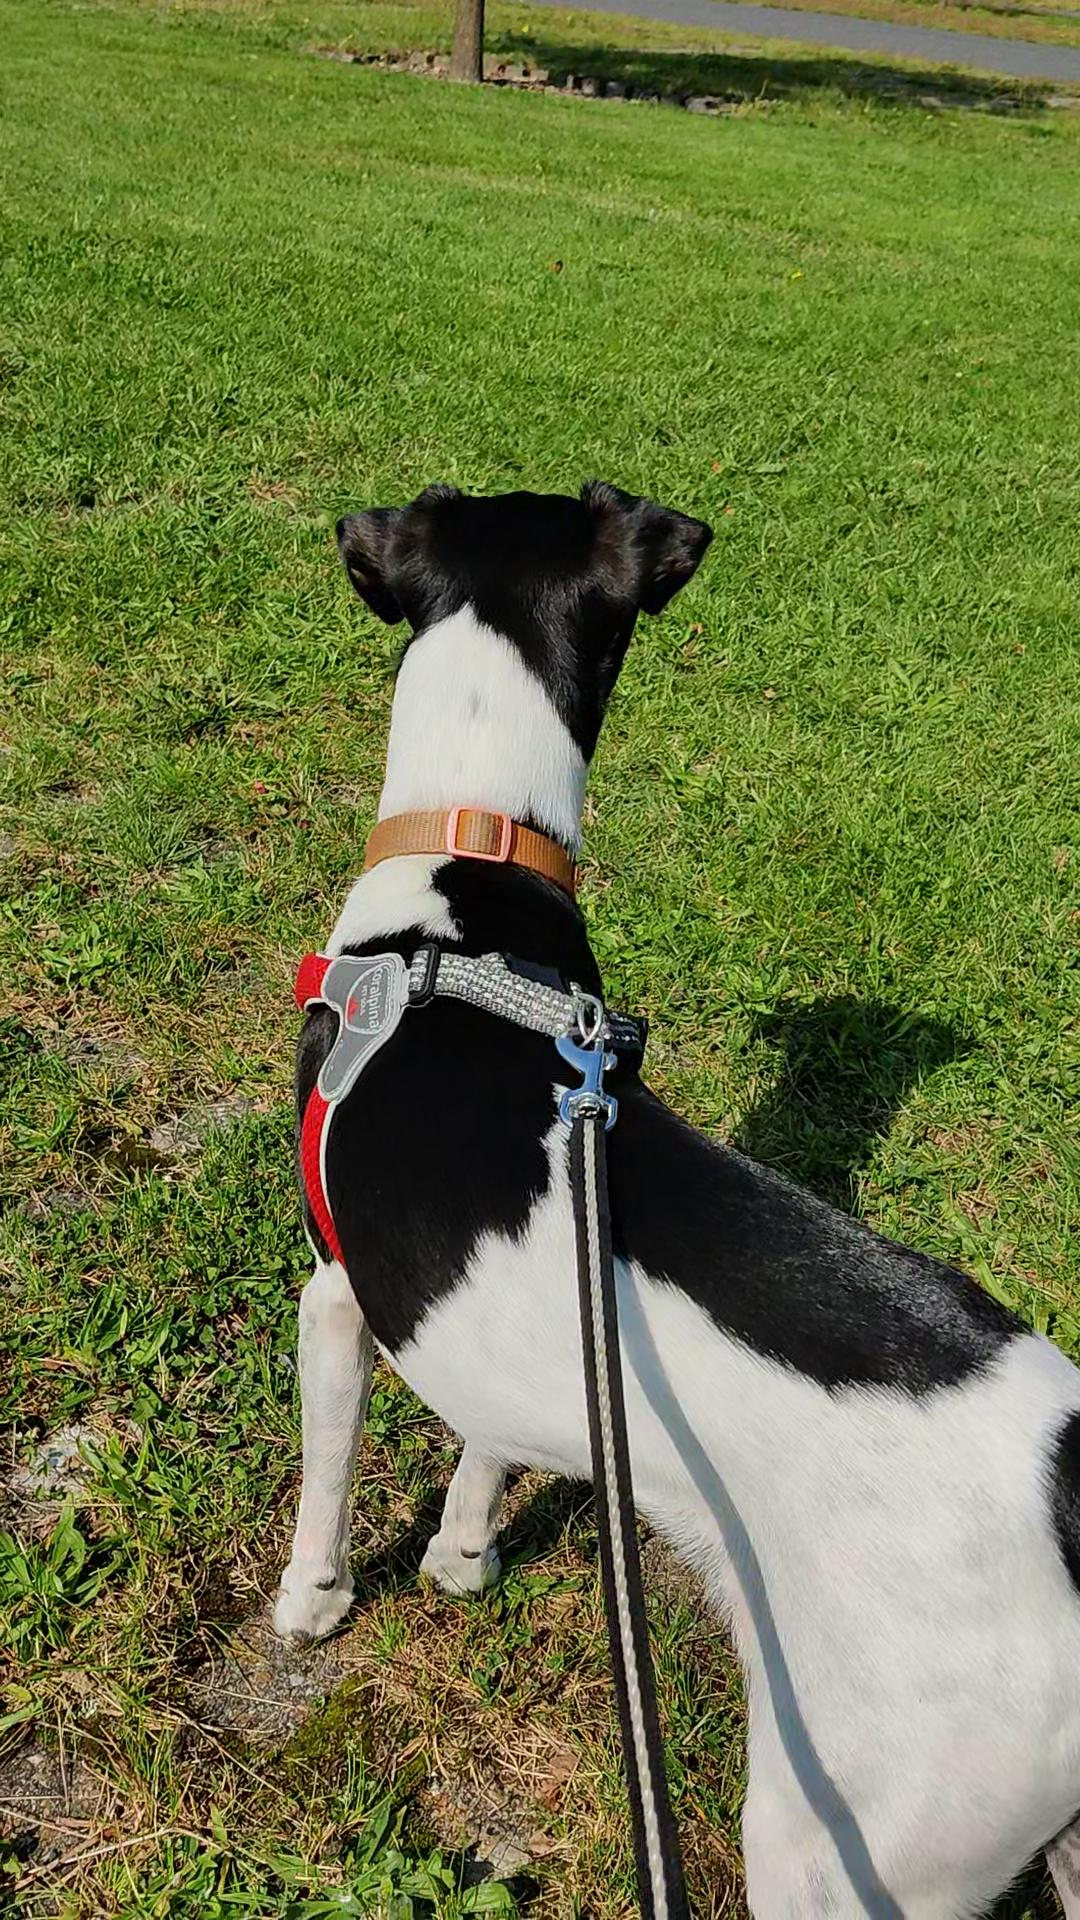Dog: (240, 444, 1079, 1919)
